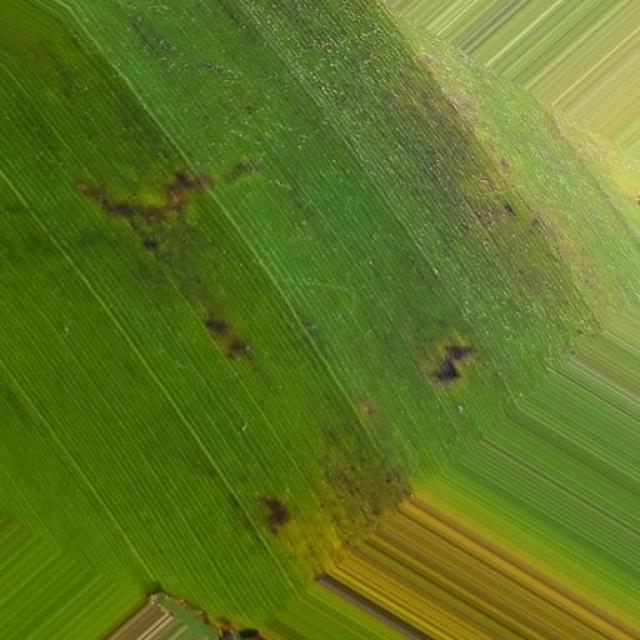Black_rot: (22, 74, 561, 548)
